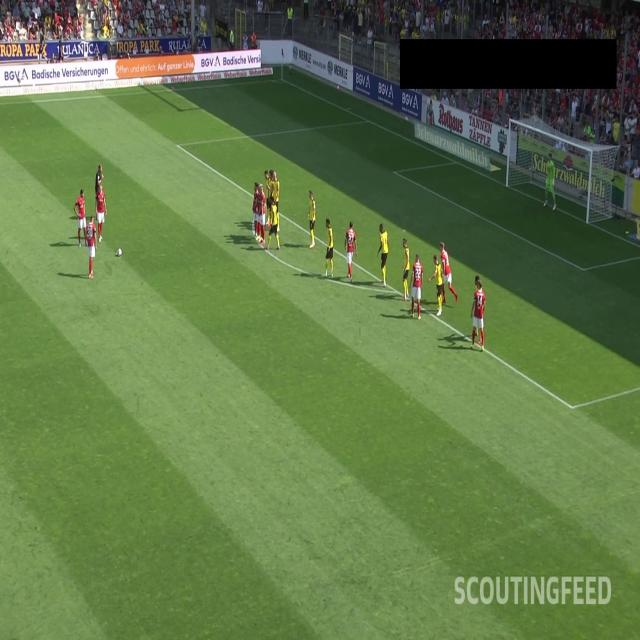ball: (116, 244, 124, 261)
player: (437, 240, 459, 305), (469, 278, 486, 356), (407, 248, 423, 321), (428, 252, 445, 318), (374, 222, 390, 292), (343, 218, 359, 285), (73, 185, 89, 248), (542, 150, 558, 212), (84, 214, 99, 280), (470, 271, 484, 339), (94, 181, 108, 246), (397, 234, 410, 303), (266, 193, 280, 250), (305, 188, 317, 251), (323, 216, 334, 279), (272, 170, 281, 235), (260, 180, 268, 248), (262, 161, 270, 229), (251, 179, 259, 242), (268, 165, 275, 232), (258, 178, 262, 246)
referee: (94, 164, 107, 224)
